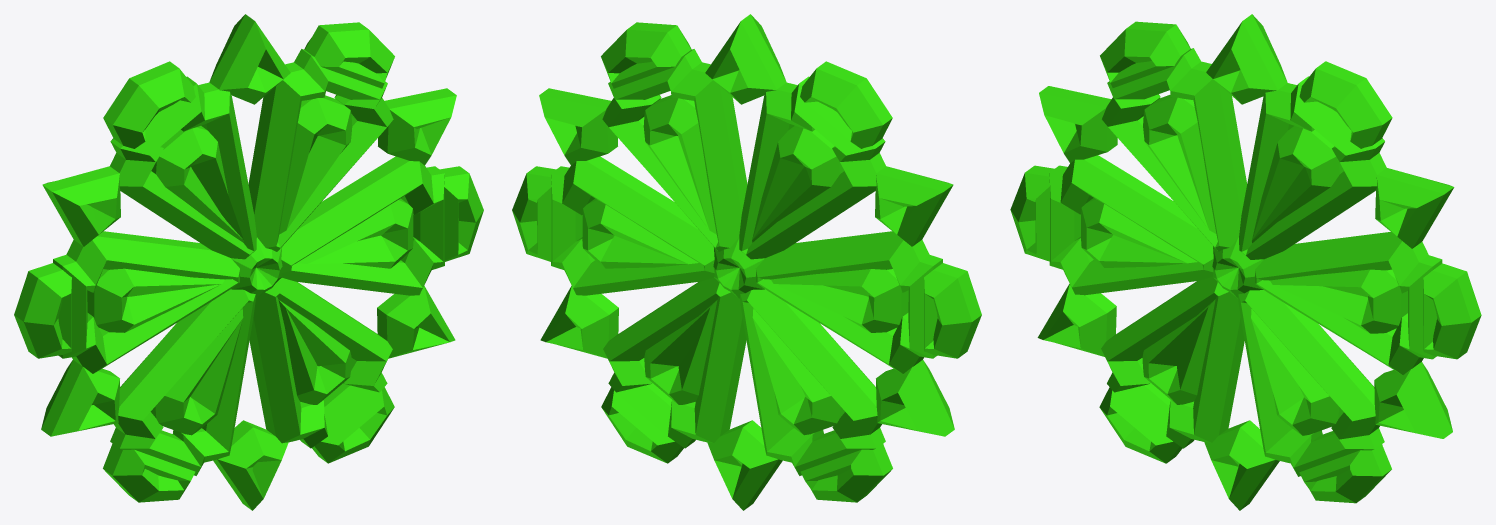
The model's file is rosacea1.glb.
The picture shows the model from 3 angles, left to right: view 1: azimuth 30°, elevation 25°; view 2: azimuth 150°, elevation 25°; view 3: azimuth 330°, elevation 25°; orthographic projection.
Parts seen in each view (by area): view 1: root.001; view 2: root.001; view 3: root.001.
Boxes of the visible parts, left/top/right/bottom form: root.001: left=14, top=14, right=483, bottom=510; root.001: left=512, top=14, right=981, bottom=510; root.001: left=1010, top=14, right=1481, bottom=510.
Size of the model in its own units: 6.54 by 6.64 by 0.78.
